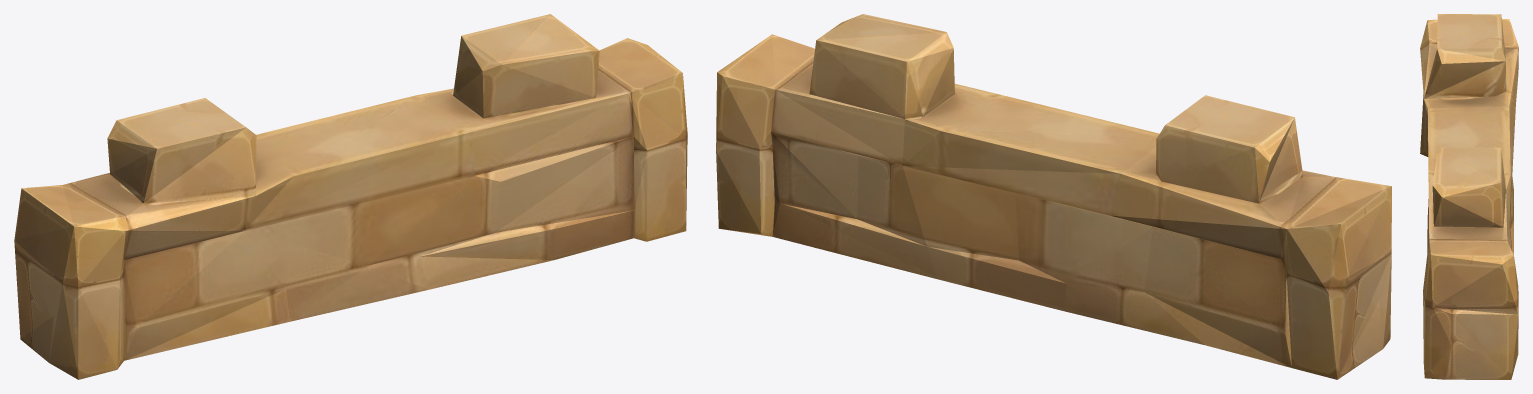
File: parede-baixa.glb
3 renders of one model, left to right at view 1: azimuth 30°, elevation 25°; view 2: azimuth 150°, elevation 25°; view 3: azimuth 270°, elevation 25°, orthographic. The views are drawn at different scales.
Visible parts, largest first — view 1: Mesh_0; view 2: Mesh_0; view 3: Mesh_0.
Boxes of the visible parts, left/top/right/bottom form: Mesh_0: left=14, top=14, right=687, bottom=379; Mesh_0: left=716, top=14, right=1391, bottom=379; Mesh_0: left=1420, top=14, right=1518, bottom=379.
Size of the model in its own units: 1.9 by 0.5901 by 0.325.
1 material, 1 textured.
